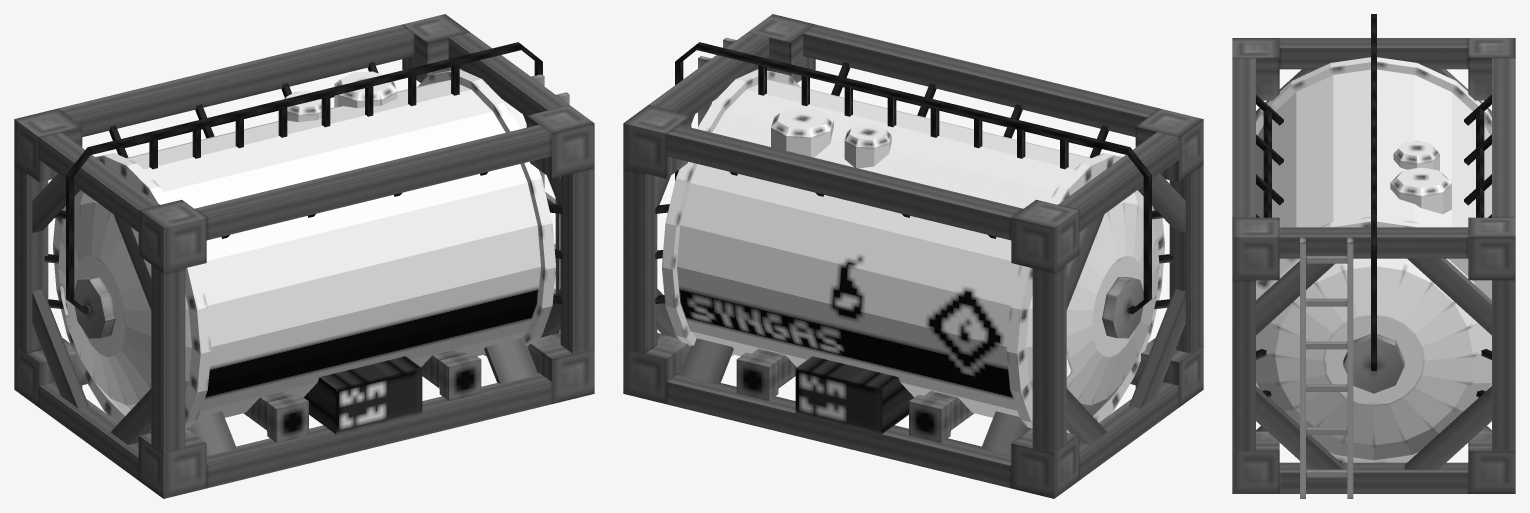
File: syngas_tank.obj
The picture shows the model from 3 angles, left to right: view 1: azimuth 30°, elevation 25°; view 2: azimuth 150°, elevation 25°; view 3: azimuth 270°, elevation 25°; orthographic projection. The views are drawn at different scales.
Parts seen in each view (by area): view 1: Frame; view 2: Frame; view 3: Frame.
Boxes of the visible parts, left/top/right/bottom form: Frame: left=14, top=14, right=594, bottom=498; Frame: left=623, top=14, right=1203, bottom=498; Frame: left=1232, top=14, right=1515, bottom=498.
Size of the model in its own units: 5.5 by 3.28 by 3.
